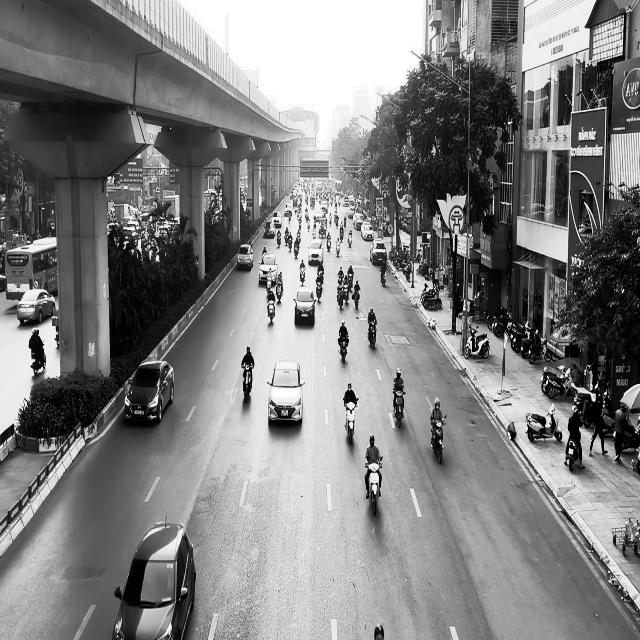bus: (5, 236, 58, 300)
car: (112, 517, 196, 639), (124, 359, 175, 424), (267, 359, 305, 424), (17, 288, 56, 324), (293, 286, 316, 326), (258, 252, 279, 286), (237, 243, 254, 269), (308, 239, 324, 264)
motorbike: (525, 402, 563, 441), (365, 456, 383, 515), (430, 414, 447, 464), (464, 326, 490, 358), (343, 397, 359, 444), (565, 436, 580, 470), (393, 390, 406, 428), (31, 344, 46, 375), (242, 363, 254, 401), (266, 290, 276, 322), (338, 335, 349, 362), (368, 321, 377, 349)
